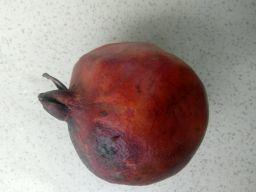pomegranate: (38, 40, 209, 187)
